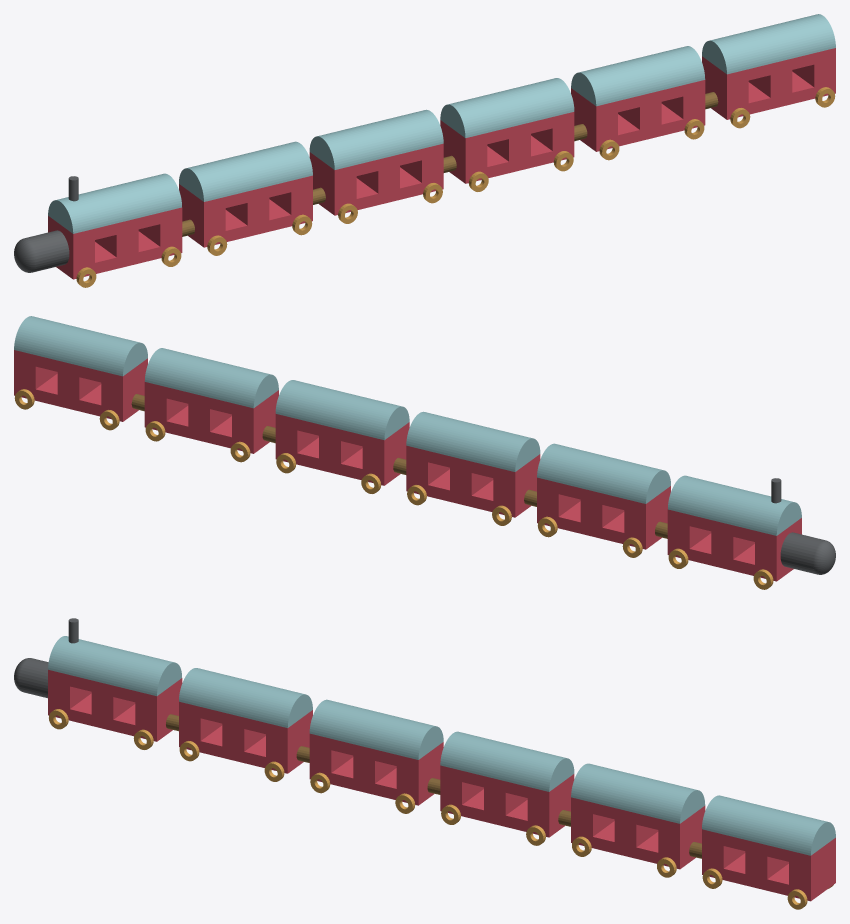
Rendered from train.glb.
3 views of the same model, one above another, from view 1: azimuth 30°, elevation 25°; view 2: azimuth 150°, elevation 25°; view 3: azimuth 330°, elevation 25° (orthographic).
Visible parts, largest first — view 1: Mesh_Mesh_head_geo.001_lambert2SG.001; view 2: Mesh_Mesh_head_geo.001_lambert2SG.001; view 3: Mesh_Mesh_head_geo.001_lambert2SG.001.
Boxes of the visible parts, x1,y1,x2,y2 form: Mesh_Mesh_head_geo.001_lambert2SG.001: (14,14,835,287); Mesh_Mesh_head_geo.001_lambert2SG.001: (14,316,835,589); Mesh_Mesh_head_geo.001_lambert2SG.001: (14,618,835,909).
Bounding box in the file's own units: 370 × 43 × 24.
